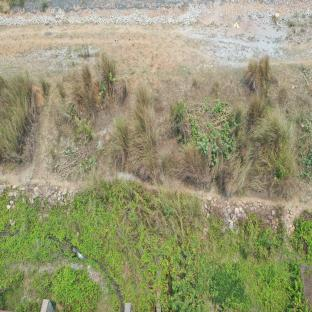rock_toe: (201, 198, 312, 243), (0, 184, 84, 222)
vegetation: (61, 57, 291, 199), (163, 253, 310, 309), (0, 70, 43, 158)
